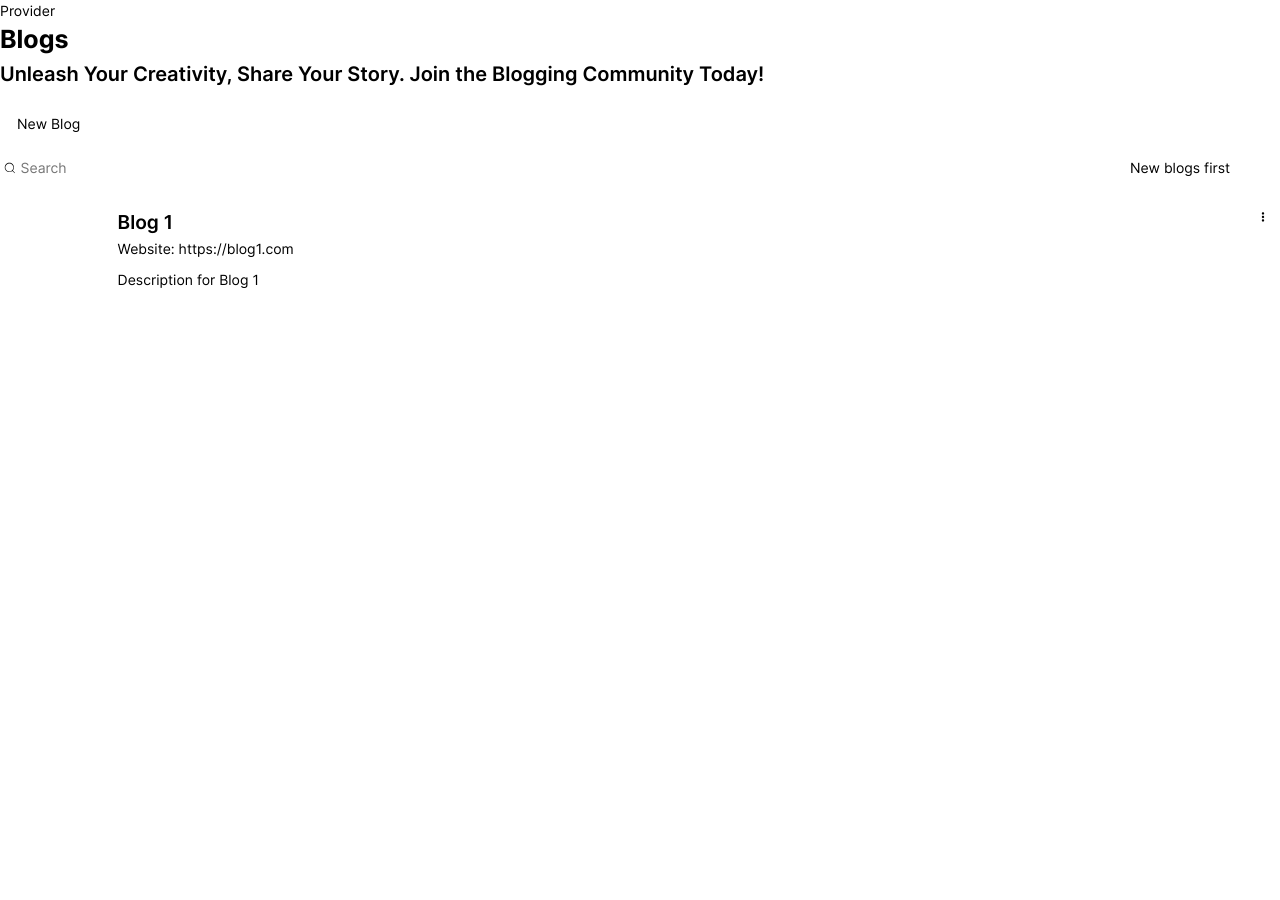
Test: Blogs page › should open add blog modal
This screenshot has width=1280, height=900.
Click the button "New Blog" at (49, 123), box x1=0 y1=104 x2=97 y2=142
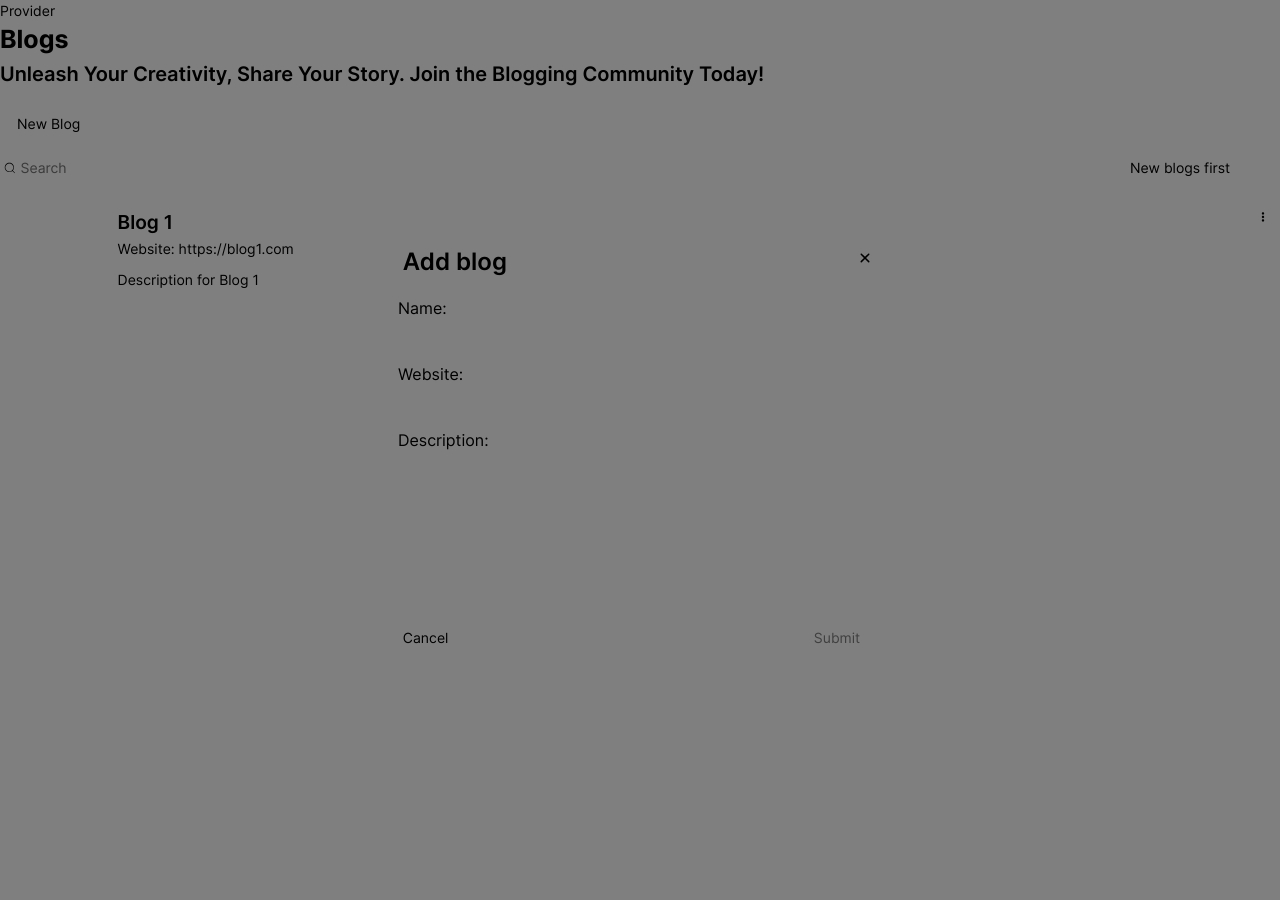
expect the heading "Add blog" is shown: met, box x1=403 y1=244 x2=507 y2=280
